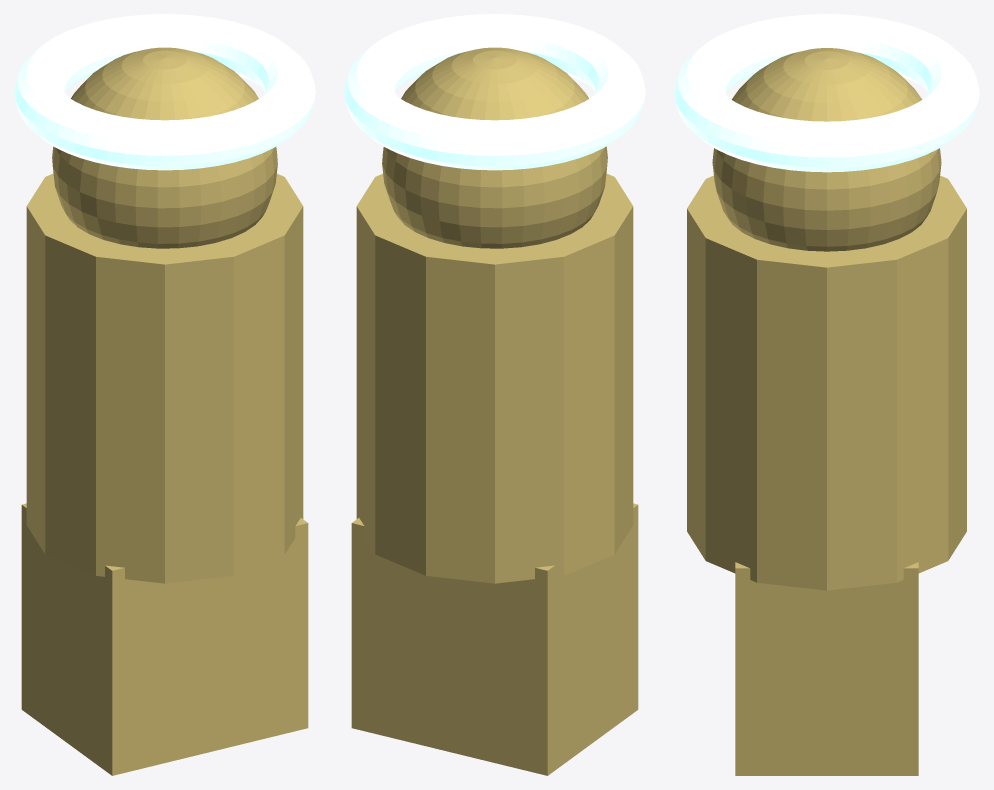
The model's file is BorealValkyrieIdol.glb.
3 renders of one model, left to right at view 1: azimuth 30°, elevation 25°; view 2: azimuth 150°, elevation 25°; view 3: azimuth 270°, elevation 25°, orthographic.
Visible parts, largest first — view 1: BorealValkyrieIdol; view 2: BorealValkyrieIdol; view 3: BorealValkyrieIdol.
Part boxes in pixels (x1,y1,x2,y2): BorealValkyrieIdol: [14, 14, 315, 775]; BorealValkyrieIdol: [344, 14, 645, 775]; BorealValkyrieIdol: [674, 14, 979, 775].
Size of the model in its own units: 1.2 by 2.9 by 1.2.
